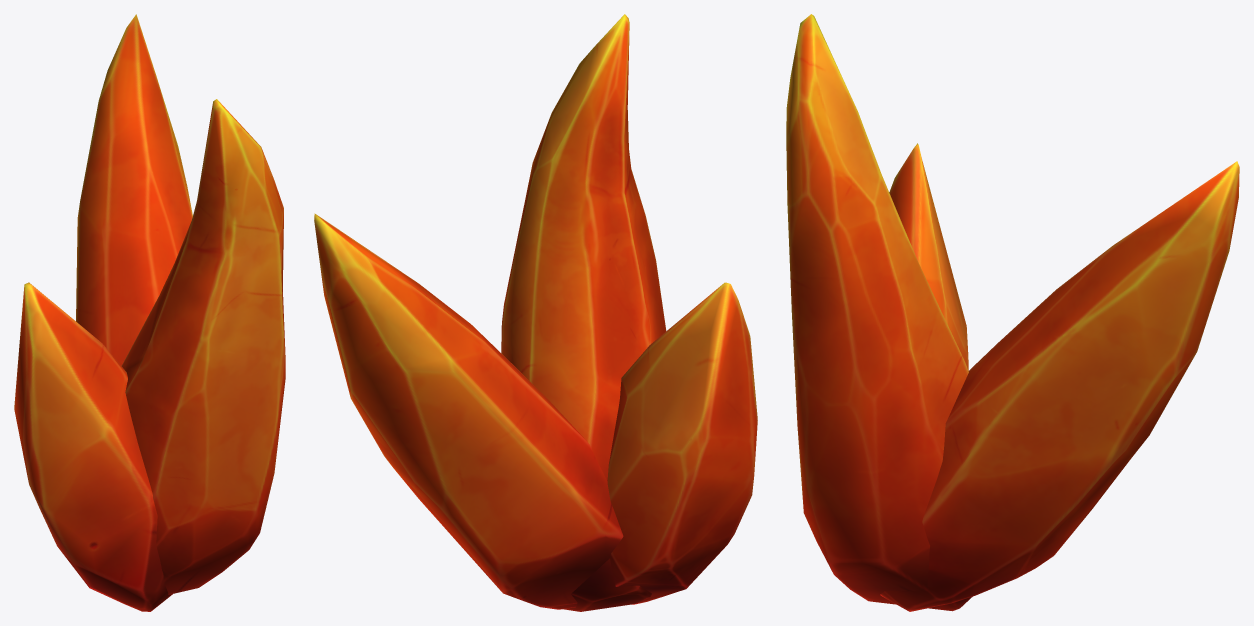
The model's file is SM_Gem_FireCrystal_009.fbx.
3 renders of one model, left to right at view 1: azimuth 30°, elevation 25°; view 2: azimuth 150°, elevation 25°; view 3: azimuth 270°, elevation 25°, orthographic. The views are drawn at different scales.
Parts seen in each view (by area): view 1: SM_Gem_FireCrystal_009; view 2: SM_Gem_FireCrystal_009; view 3: SM_Gem_FireCrystal_009.
Part boxes in pixels (<box>): SM_Gem_FireCrystal_009: <box>14,14,285,611</box>; SM_Gem_FireCrystal_009: <box>314,14,757,611</box>; SM_Gem_FireCrystal_009: <box>786,14,1239,611</box>.
Size of the model in its own units: 36.33 by 68.33 by 46.68.
